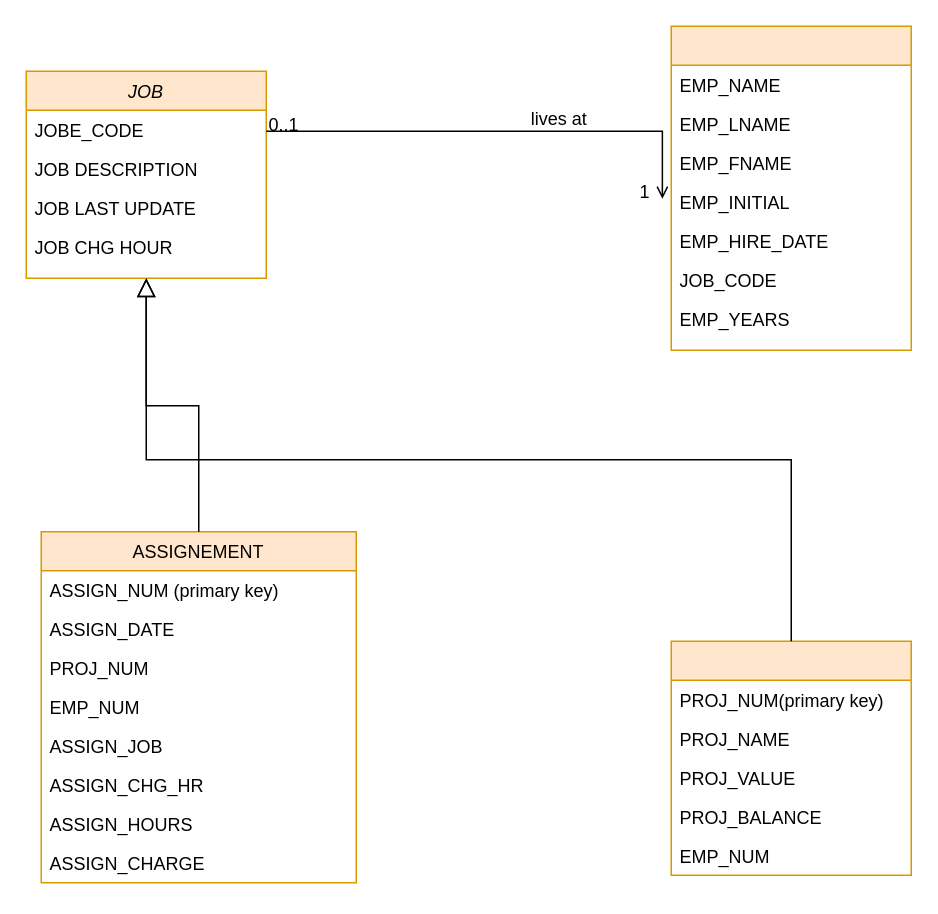
Image size: 938x914. Some labels were removed from this diagram. The box of each missing label's shape, as (x1, y1, x2, y2) in pixels:
EMPLOYEE: (670, 25, 911, 350)
Professor: (670, 640, 911, 875)
